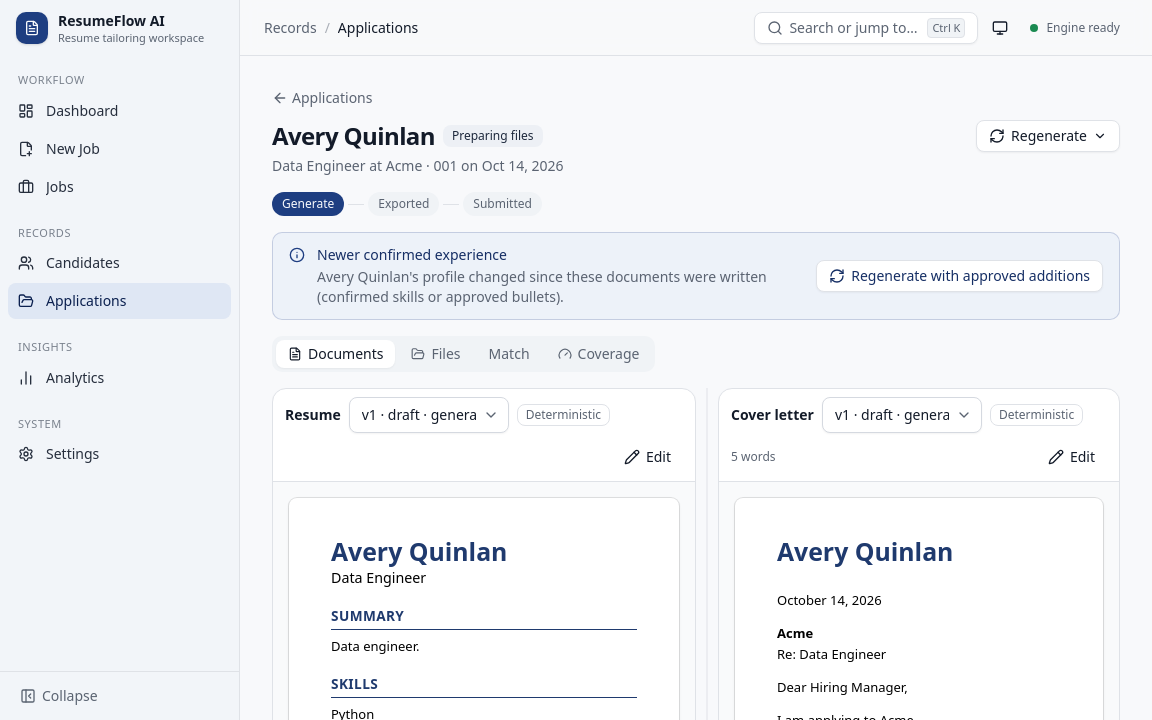
Test: application coverage and regeneration › reports coverage before and after, and regenerates with newly approved additions
This screenshot has width=1152, height=720.
Click the button "Regenerate with approved additions": (960, 276) [816,260,1103,292]
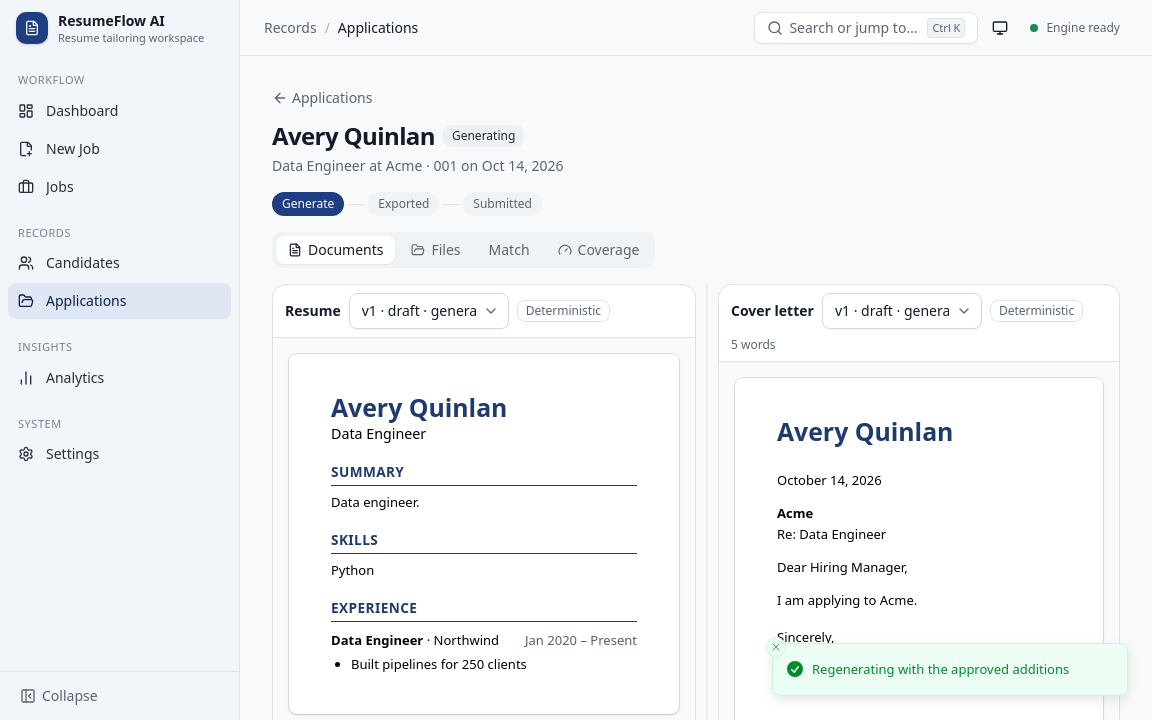
Click the tab "Coverage": (598, 250) [546,236,651,264]
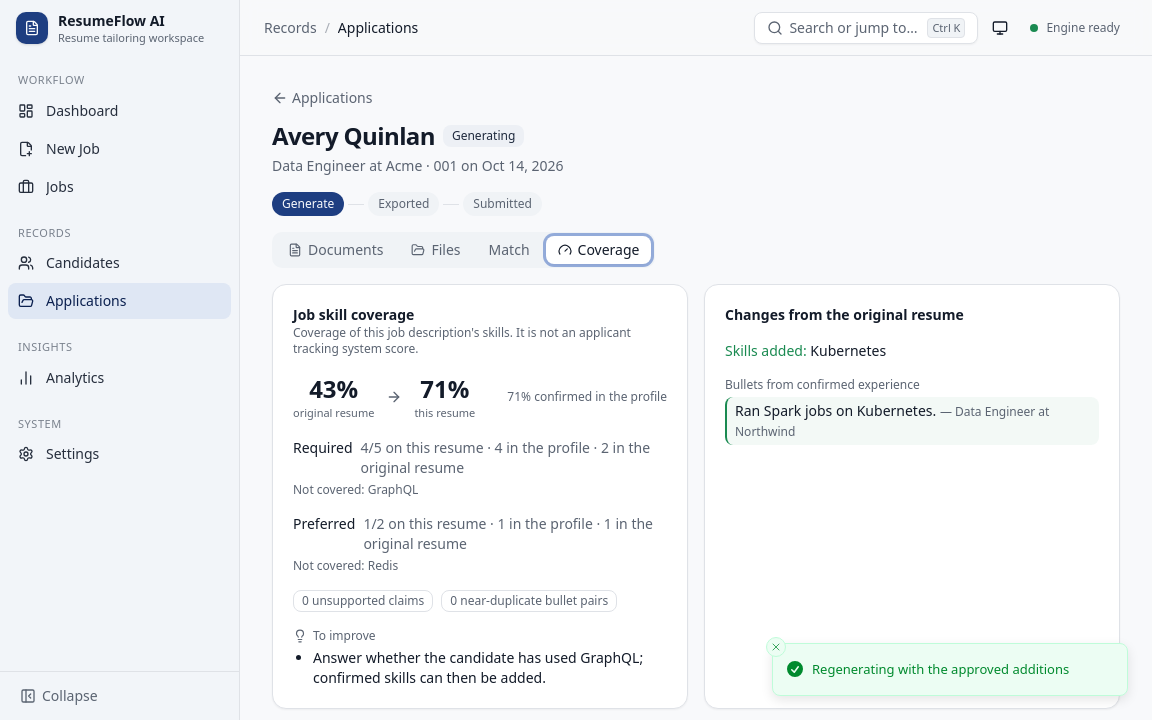
Expected: the text "43%" is shown, [309,372,358,405]
Expected: the text "71%" is shown, [420,372,469,405]
Expected: the text "not an applicant tracking system score" is shown, [293,324,631,357]
